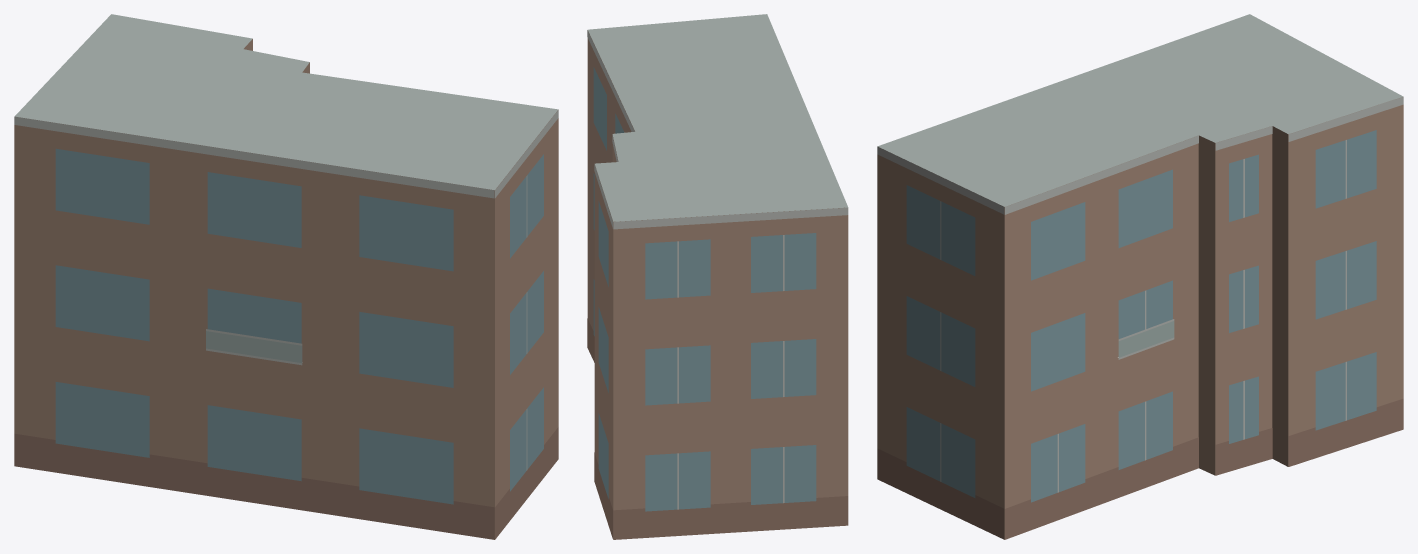
The model's file is survey-upis-32506485.glb.
3 renders of one model, left to right at view 1: azimuth 30°, elevation 25°; view 2: azimuth 150°, elevation 25°; view 3: azimuth 270°, elevation 25°, orthographic. The views are drawn at different scales.
Parts seen in each view (by area): view 1: survey-upis-32506485.tmp; view 2: survey-upis-32506485.tmp; view 3: survey-upis-32506485.tmp.
Part boxes in pixels (x1,y1,x2,y2): survey-upis-32506485.tmp: (14, 14, 558, 539); survey-upis-32506485.tmp: (587, 14, 848, 539); survey-upis-32506485.tmp: (877, 14, 1403, 539).
Size of the model in its own units: 12.69 by 10.2 by 14.62.
